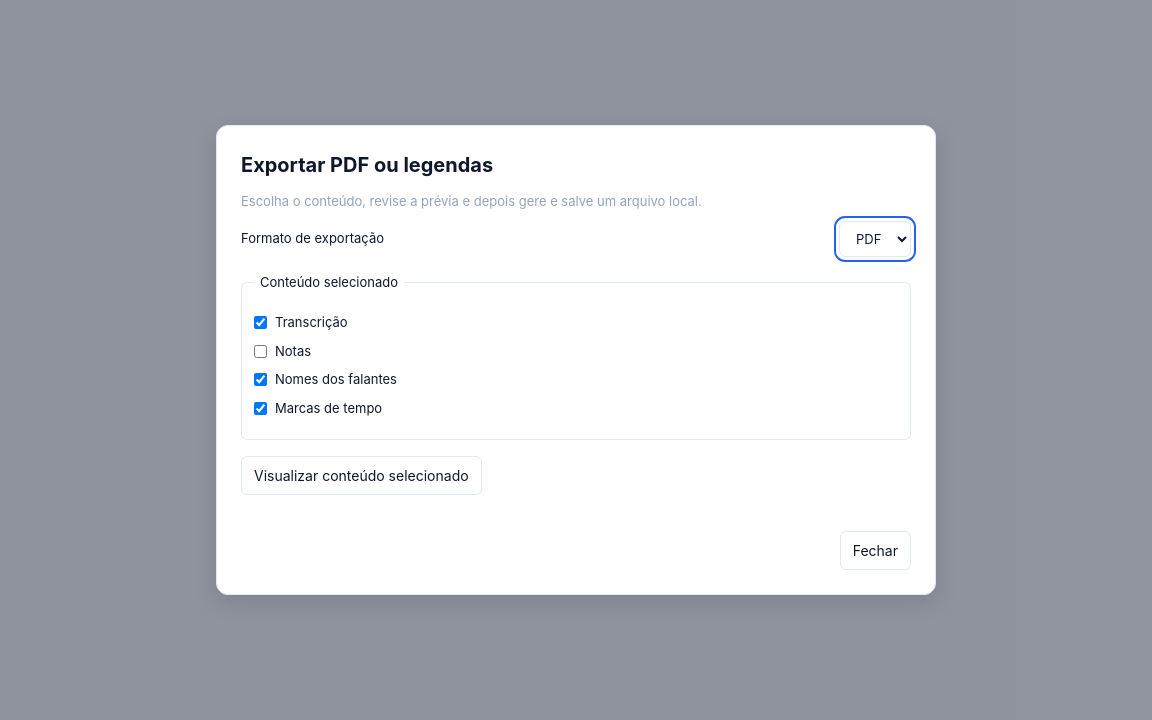
Scenario: rejects an invalid displayed source version before requesting an export and gives localized refresh feedback
This screenshot has width=1152, height=720.
Click the button "Visualizar conteúdo selecionado".
click(361, 476)  # box [241, 456, 482, 495]
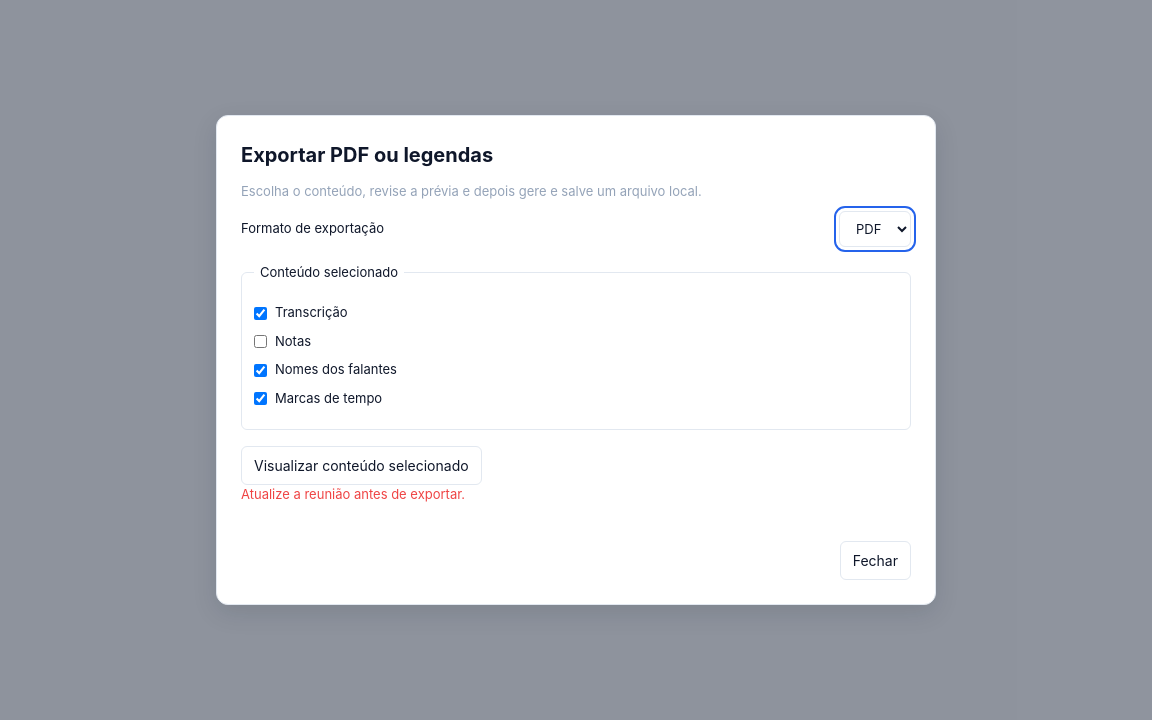
Now the message reads "Atualize a reunião antes de exportar.", box [241, 486, 465, 502]
